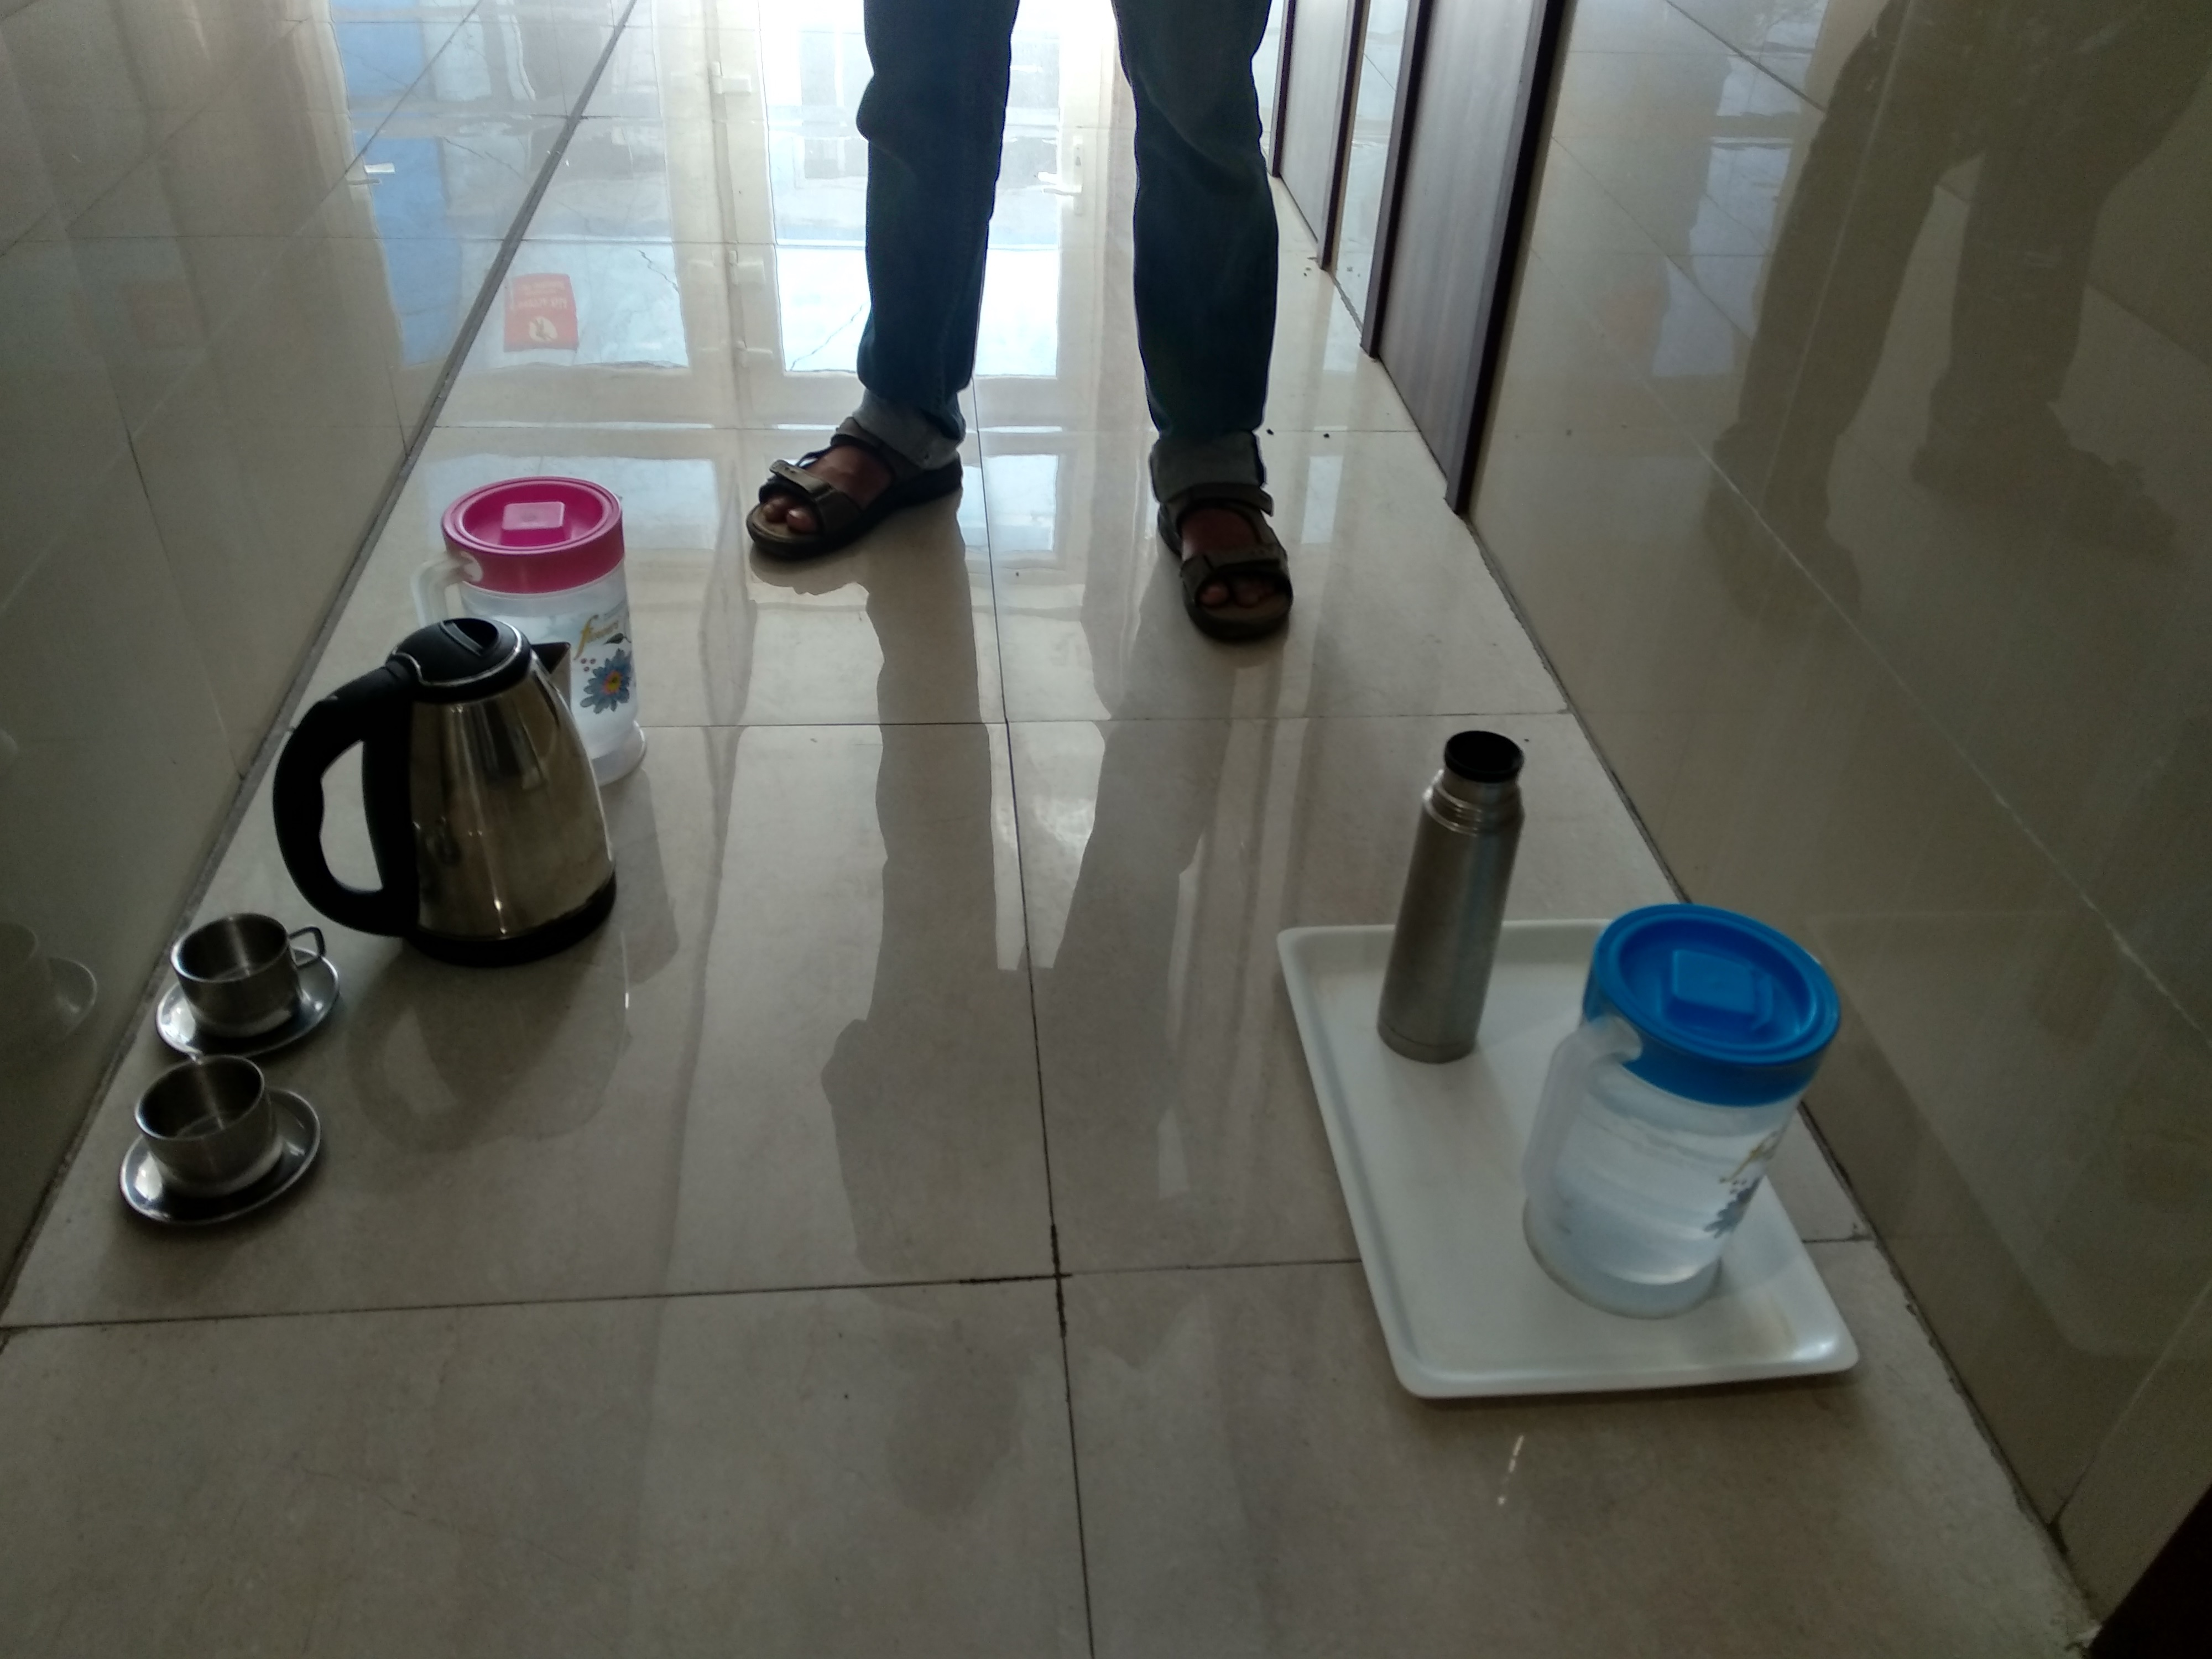CUP: (113, 1060, 345, 1227), (125, 915, 352, 1037)
FLASK: (1372, 662, 1526, 1079)
JUG: (256, 605, 664, 953), (1531, 887, 1839, 1335), (390, 464, 662, 626)
